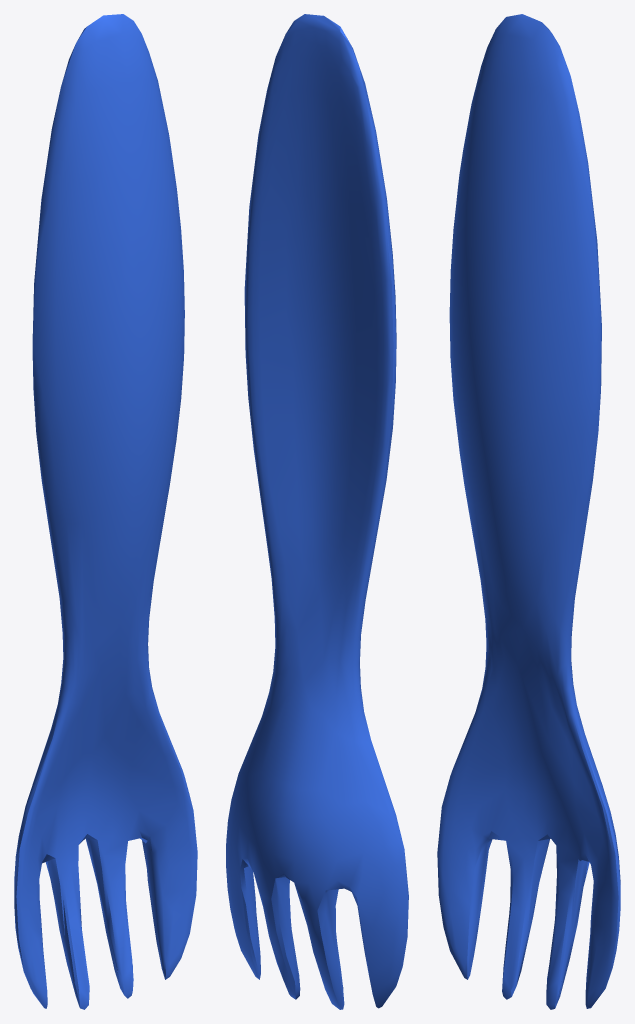
File: catal.fbx
The picture shows the model from 3 angles, left to right: view 1: azimuth 30°, elevation 25°; view 2: azimuth 150°, elevation 25°; view 3: azimuth 330°, elevation 25°; orthographic projection.
Visible parts, largest first — view 1: Cube.105; view 2: Cube.105; view 3: Cube.105.
Part boxes in pixels (box(x1,y1,x2,y2)): Cube.105: box(14, 14, 197, 1009); Cube.105: box(226, 14, 408, 1009); Cube.105: box(437, 14, 620, 1009).
Bounding box in the file's own units: 199 × 115 × 1032.
